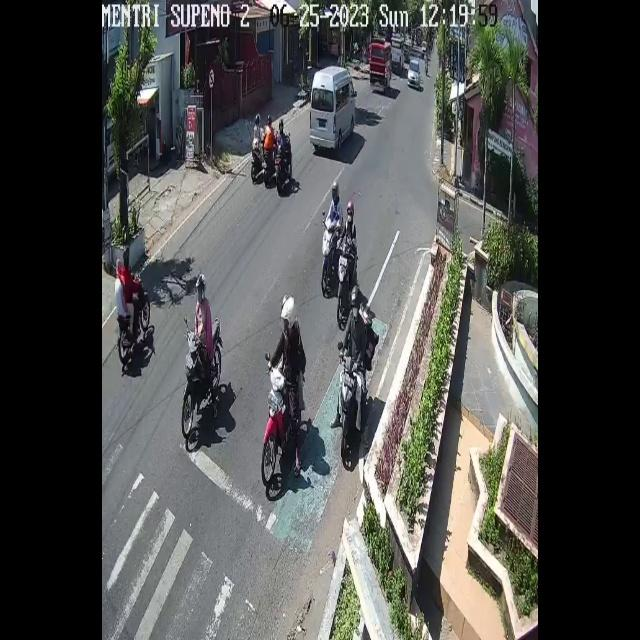bus: (180, 318, 222, 440), (261, 363, 290, 487), (118, 272, 151, 364), (341, 356, 363, 460), (321, 217, 338, 292), (273, 132, 292, 194), (338, 241, 351, 322), (262, 146, 272, 190), (251, 147, 260, 184)
car: (308, 67, 357, 151), (368, 38, 392, 92), (393, 33, 405, 76)
motorcycle: (407, 59, 420, 89)
